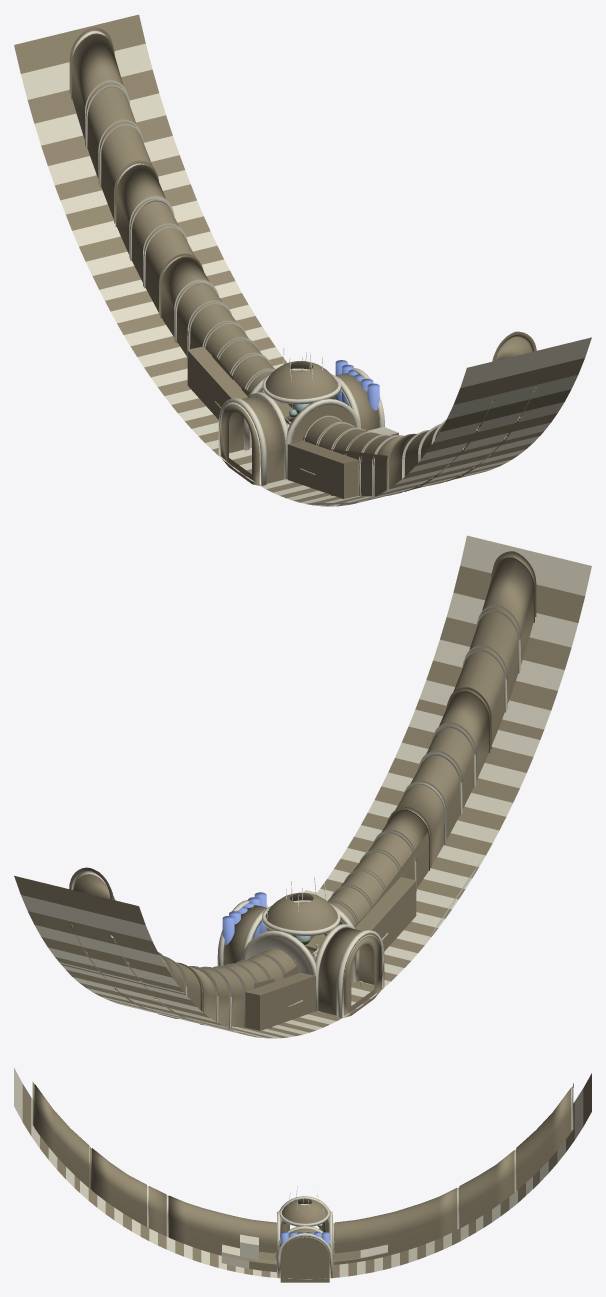
The model's file is RingRefSize.fbx.
The picture shows the model from 3 angles, top to bottom: view 1: azimuth 30°, elevation 25°; view 2: azimuth 150°, elevation 25°; view 3: azimuth 270°, elevation 25°; orthographic projection. The views are drawn at different scales.
Visible parts, largest first — view 1: Sphere.020; view 2: Sphere.020; view 3: Sphere.020.
Boxes of the visible parts, bbox=[...] form: Sphere.020: bbox=[14, 14, 591, 506]; Sphere.020: bbox=[14, 535, 591, 1038]; Sphere.020: bbox=[14, 1068, 591, 1282].
Bounding box in the file's own units: 2206 × 4839 × 13839.
